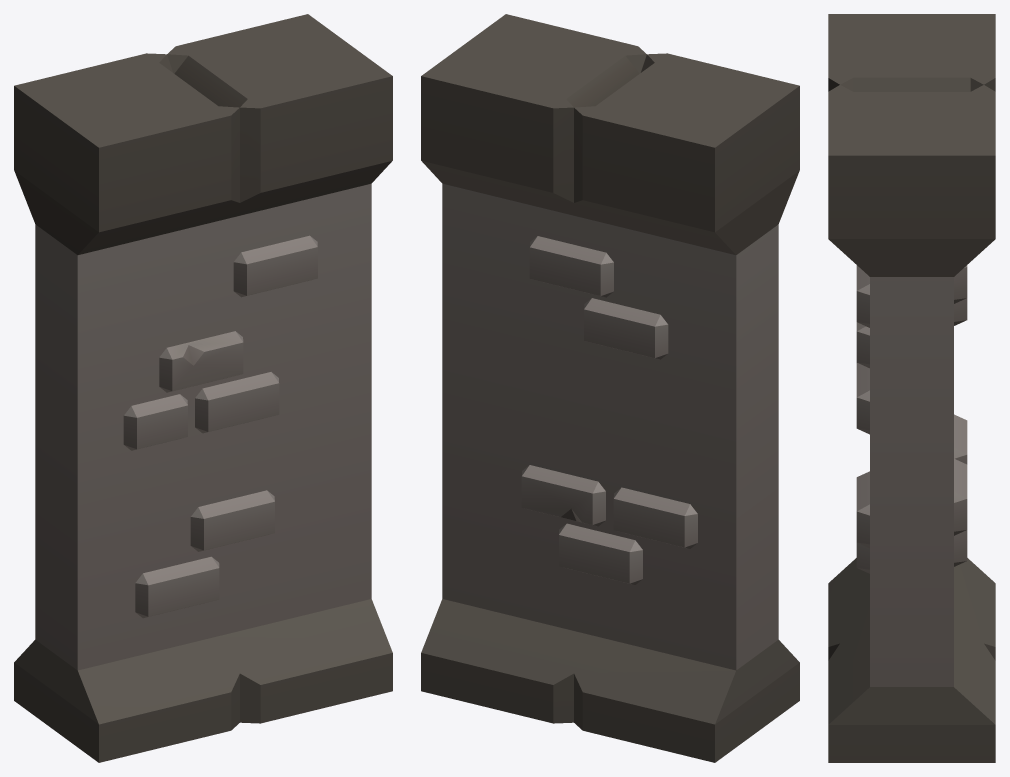
Rendered from kaykit_dungeon_wall_half.glb.
3 renders of one model, left to right at view 1: azimuth 30°, elevation 25°; view 2: azimuth 150°, elevation 25°; view 3: azimuth 270°, elevation 25°, orthographic.
Visible parts, largest first — view 1: wall_half; view 2: wall_half; view 3: wall_half.
Part boxes in pixels (left/top/right/bottom): wall_half: left=14, top=14, right=392, bottom=762; wall_half: left=421, top=14, right=799, bottom=762; wall_half: left=828, top=14, right=995, bottom=762.
Size of the model in its own units: 2 by 4 by 1.
1 material, 1 textured.
